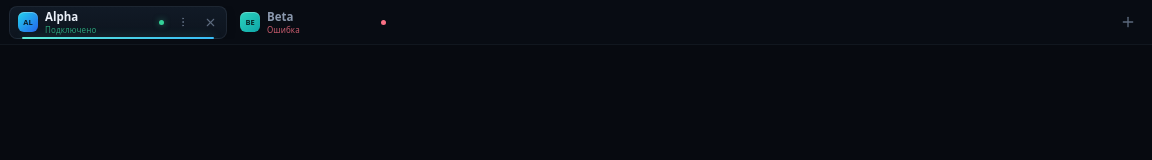
Scenario: TabBar › открывает меню вкладки и выносит сессию
The image size is (1152, 160).
What coordinates should you click on to do the following:
click the button named "Меню вкладки"
I would click on:
 (181, 22)
Its box is top-left (171, 12), bottom-right (191, 32).
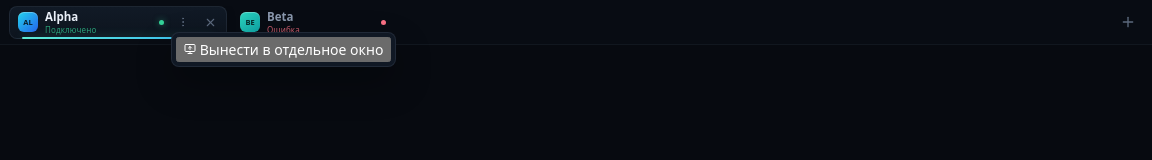
What coordinates should you click on to do the following:
click the button "Вынести в отдельное окно"
I would click on:
 (284, 50)
Its box is top-left (176, 37), bottom-right (391, 62).
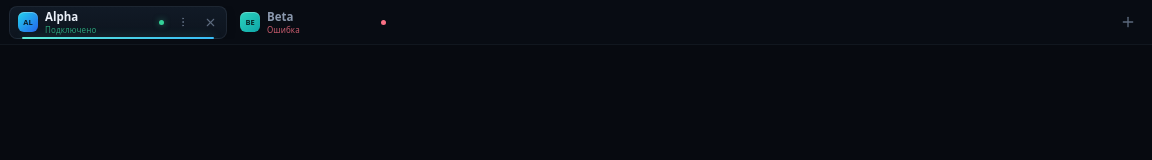
Expected: the button "Вынести в отдельное окно" is gone
